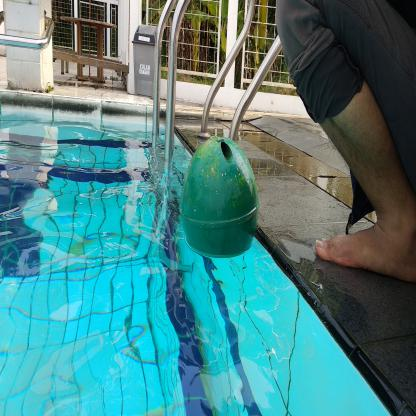green_buoy: (180, 134, 260, 264)
